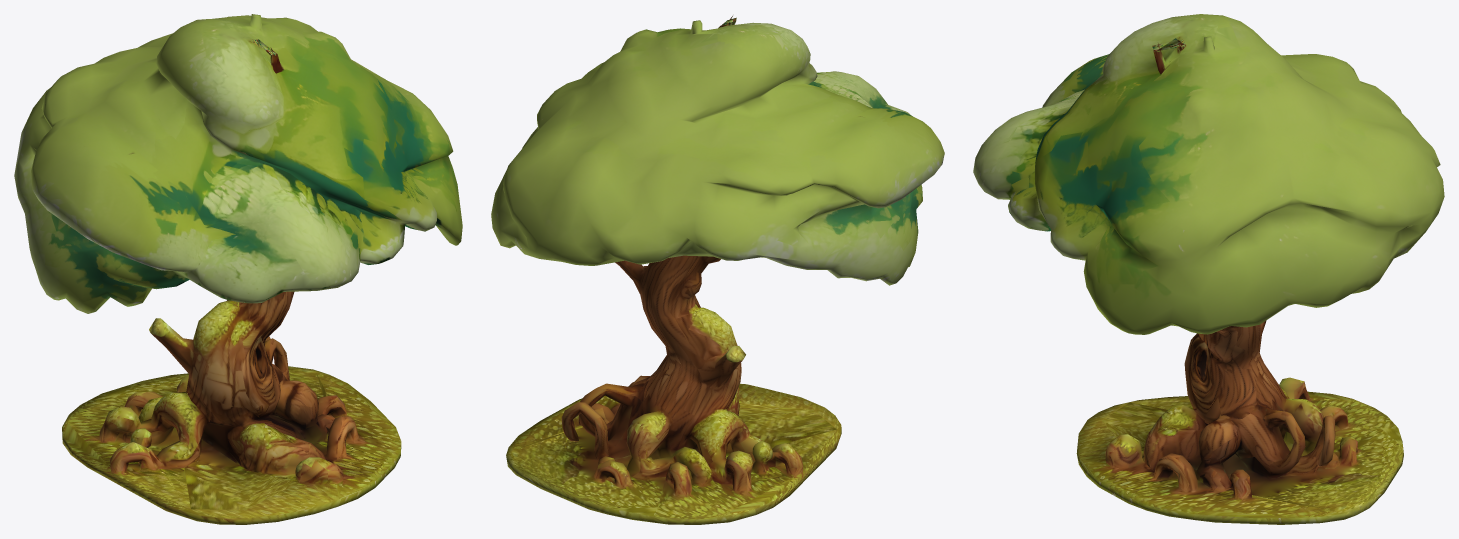
File: tree07.fbx
The picture shows the model from 3 angles, left to right: view 1: azimuth 30°, elevation 25°; view 2: azimuth 150°, elevation 25°; view 3: azimuth 270°, elevation 25°; orthographic projection. The views are drawn at different scales.
Visible parts, largest first — view 1: material; view 2: material; view 3: material.
Boxes of the visible parts, <box> form: material: <box>14,14,462,524</box>; material: <box>491,16,944,524</box>; material: <box>973,14,1444,524</box>.
Size of the model in its own units: 77.45 by 84.06 by 84.66.
Materials: 1 (1 with a texture image).
